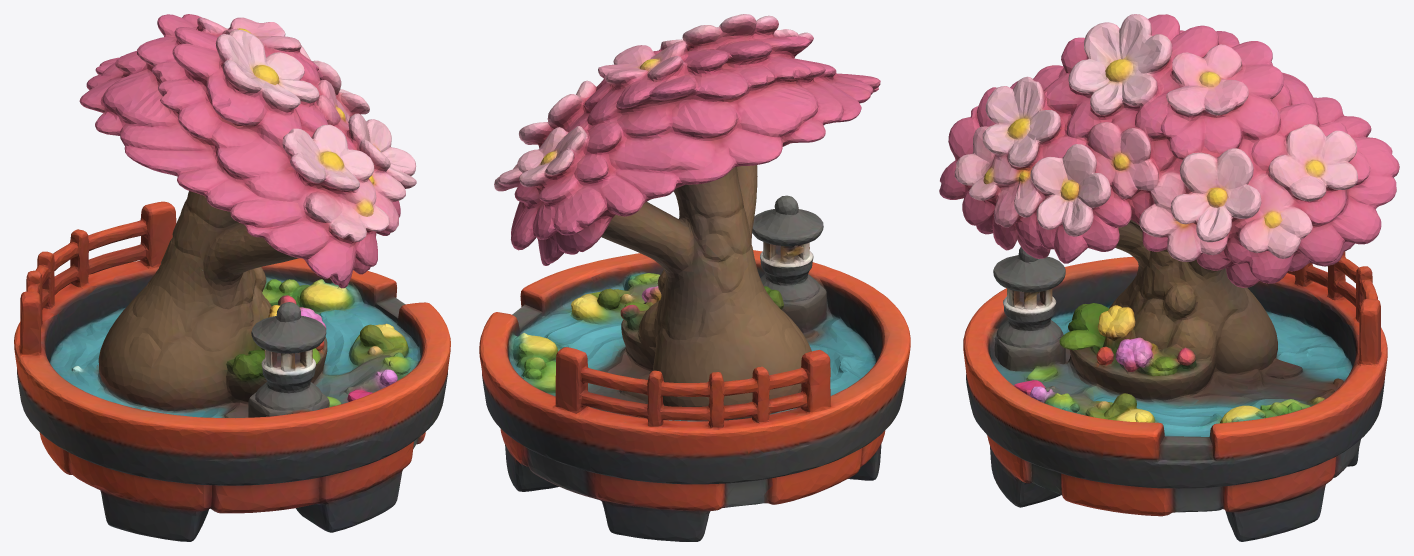
Rendered from flower_10.glb.
3 views of the same model, side by side, from view 1: azimuth 30°, elevation 25°; view 2: azimuth 150°, elevation 25°; view 3: azimuth 270°, elevation 25° (orthographic). The views are drawn at different scales.
Visible parts, largest first — view 1: tripo_node_8e9bcf88-b1de-4d58-b28b-c36dc35f9d3d; view 2: tripo_node_8e9bcf88-b1de-4d58-b28b-c36dc35f9d3d; view 3: tripo_node_8e9bcf88-b1de-4d58-b28b-c36dc35f9d3d.
Boxes of the visible parts, box(x1,y1,x2,y2) form: tripo_node_8e9bcf88-b1de-4d58-b28b-c36dc35f9d3d: box(14, 14, 450, 541); tripo_node_8e9bcf88-b1de-4d58-b28b-c36dc35f9d3d: box(479, 14, 910, 541); tripo_node_8e9bcf88-b1de-4d58-b28b-c36dc35f9d3d: box(939, 14, 1399, 541).
Bounding box in the file's own units: 0.8723 × 0.9998 × 0.9446.
Materials: 1 (1 with a texture image).
